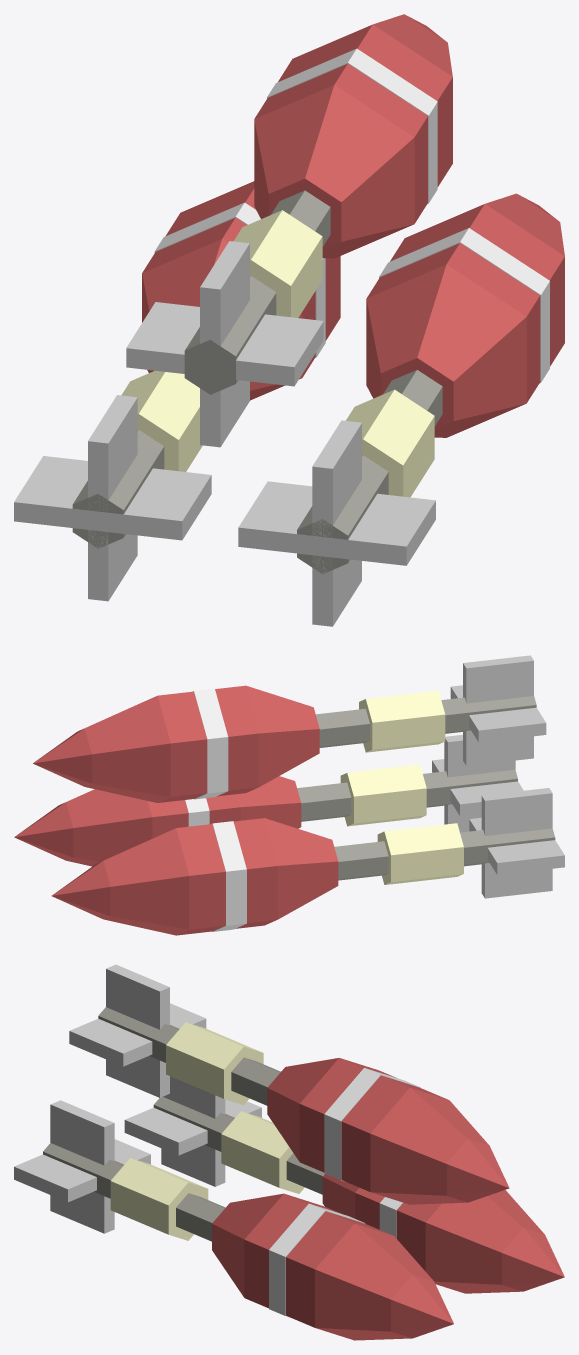
The model's file is ce_ammo_mortar_firefoam_b.obj.
3 views of the same model, one above another, from view 1: azimuth 30°, elevation 25°; view 2: azimuth 150°, elevation 25°; view 3: azimuth 270°, elevation 25° (orthographic). The views are drawn at different scales.
Visible parts, largest first — view 1: ce_ammo_mortar_firefoam_b_12, ce_ammo_mortar_firefoam_b_22, ce_ammo_mortar_firefoam_b_18, ce_ammo_mortar_firefoam_b_8, ce_ammo_mortar_firefoam_b_28, ce_ammo_mortar_firefoam_b_19, ce_ammo_mortar_firefoam_b_9, ce_ammo_mortar_firefoam_b_29, ce_ammo_mortar_firefoam_b_21, ce_ammo_mortar_firefoam_b_11, ce_ammo_mortar_firefoam_b_20, ce_ammo_mortar_firefoam_b_25 (+14 smaller); view 2: ce_ammo_mortar_firefoam_b_6, ce_ammo_mortar_firefoam_b_26, ce_ammo_mortar_firefoam_b_16, ce_ammo_mortar_firefoam_b_9, ce_ammo_mortar_firefoam_b_29, ce_ammo_mortar_firefoam_b_22, ce_ammo_mortar_firefoam_b_2, ce_ammo_mortar_firefoam_b_21, ce_ammo_mortar_firefoam_b_1, ce_ammo_mortar_firefoam_b_11, ce_ammo_mortar_firefoam_b_25, ce_ammo_mortar_firefoam_b_5 (+18 smaller); view 3: ce_ammo_mortar_firefoam_b_26, ce_ammo_mortar_firefoam_b_16, ce_ammo_mortar_firefoam_b_6, ce_ammo_mortar_firefoam_b_19, ce_ammo_mortar_firefoam_b_29, ce_ammo_mortar_firefoam_b_11, ce_ammo_mortar_firefoam_b_21, ce_ammo_mortar_firefoam_b_1, ce_ammo_mortar_firefoam_b_25, ce_ammo_mortar_firefoam_b_15, ce_ammo_mortar_firefoam_b_23, ce_ammo_mortar_firefoam_b_13 (+18 smaller).
Boxes of the visible parts, x1,y1,x2,y2 form: ce_ammo_mortar_firefoam_b_12: (366, 264, 526, 437); ce_ammo_mortar_firefoam_b_22: (254, 85, 414, 258); ce_ammo_mortar_firefoam_b_18: (238, 481, 435, 565); ce_ammo_mortar_firefoam_b_8: (14, 456, 211, 540); ce_ammo_mortar_firefoam_b_28: (126, 302, 323, 386); ce_ammo_mortar_firefoam_b_19: (312, 420, 361, 626); ce_ammo_mortar_firefoam_b_9: (88, 395, 137, 601); ce_ammo_mortar_firefoam_b_29: (200, 241, 249, 447); ce_ammo_mortar_firefoam_b_21: (233, 210, 322, 317); ce_ammo_mortar_firefoam_b_11: (346, 389, 434, 497); ce_ammo_mortar_firefoam_b_20: (184, 190, 330, 394); ce_ammo_mortar_firefoam_b_25: (278, 24, 452, 186); ce_ammo_mortar_firefoam_b_6: (103, 828, 189, 935); ce_ammo_mortar_firefoam_b_26: (84, 695, 170, 802); ce_ammo_mortar_firefoam_b_16: (66, 789, 152, 866); ce_ammo_mortar_firefoam_b_9: (481, 788, 552, 898); ce_ammo_mortar_firefoam_b_29: (463, 655, 533, 765); ce_ammo_mortar_firefoam_b_22: (246, 685, 319, 786); ce_ammo_mortar_firefoam_b_2: (264, 818, 338, 919); ce_ammo_mortar_firefoam_b_21: (359, 690, 445, 752); ce_ammo_mortar_firefoam_b_1: (377, 823, 463, 884); ce_ammo_mortar_firefoam_b_11: (340, 764, 426, 826); ce_ammo_mortar_firefoam_b_25: (157, 691, 207, 802); ce_ammo_mortar_firefoam_b_5: (176, 824, 225, 935); ce_ammo_mortar_firefoam_b_26: (370, 1087, 489, 1204); ce_ammo_mortar_firefoam_b_16: (315, 1223, 433, 1340); ce_ammo_mortar_firefoam_b_6: (425, 1190, 544, 1293); ce_ammo_mortar_firefoam_b_19: (50, 1100, 114, 1233); ce_ammo_mortar_firefoam_b_29: (106, 964, 169, 1097); ce_ammo_mortar_firefoam_b_11: (110, 1158, 208, 1240); ce_ammo_mortar_firefoam_b_21: (166, 1022, 263, 1104); ce_ammo_mortar_firefoam_b_1: (221, 1111, 304, 1193); ce_ammo_mortar_firefoam_b_25: (341, 1075, 447, 1191); ce_ammo_mortar_firefoam_b_15: (286, 1211, 392, 1327); ce_ammo_mortar_firefoam_b_23: (299, 1058, 396, 1172); ce_ammo_mortar_firefoam_b_13: (244, 1193, 340, 1308).
Bounding box in the file's own units: 0.8443 × 0.39 × 0.8443.
